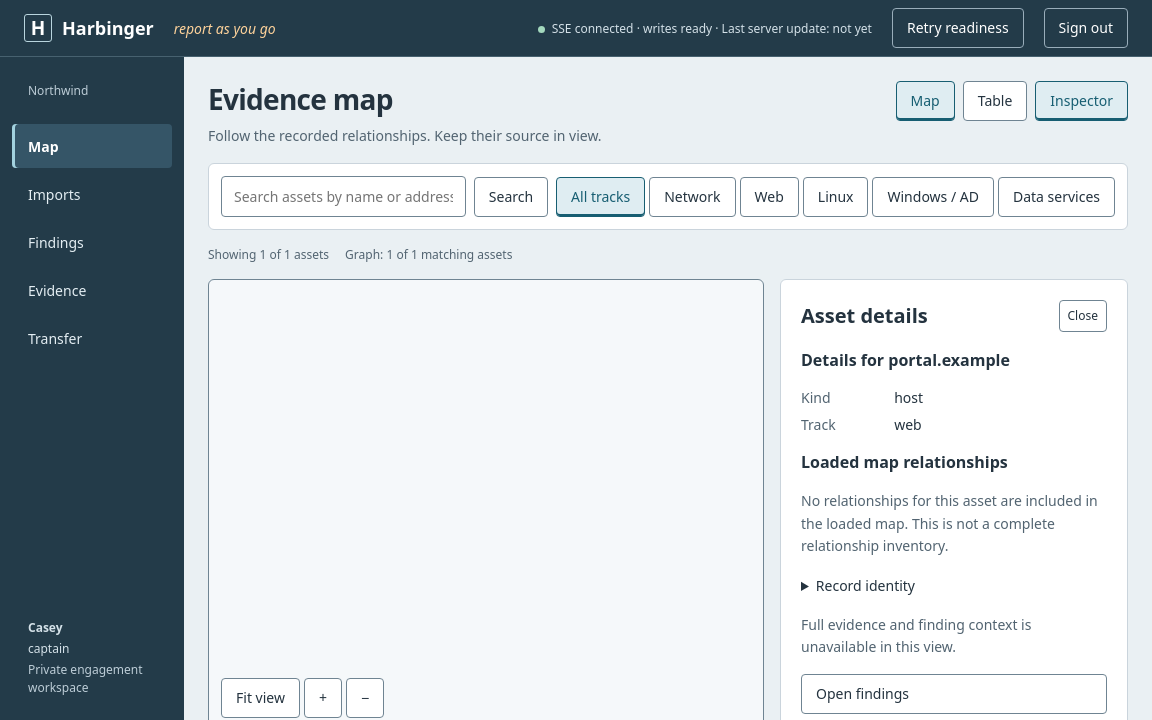
Test: Harbinger UI contract › preserves local and server versions on a stale finding revision
The width and height of the screenshot is (1152, 720).
Click the link "Findings" at (56, 242), box [28,233,84,252]
(page scrolled)
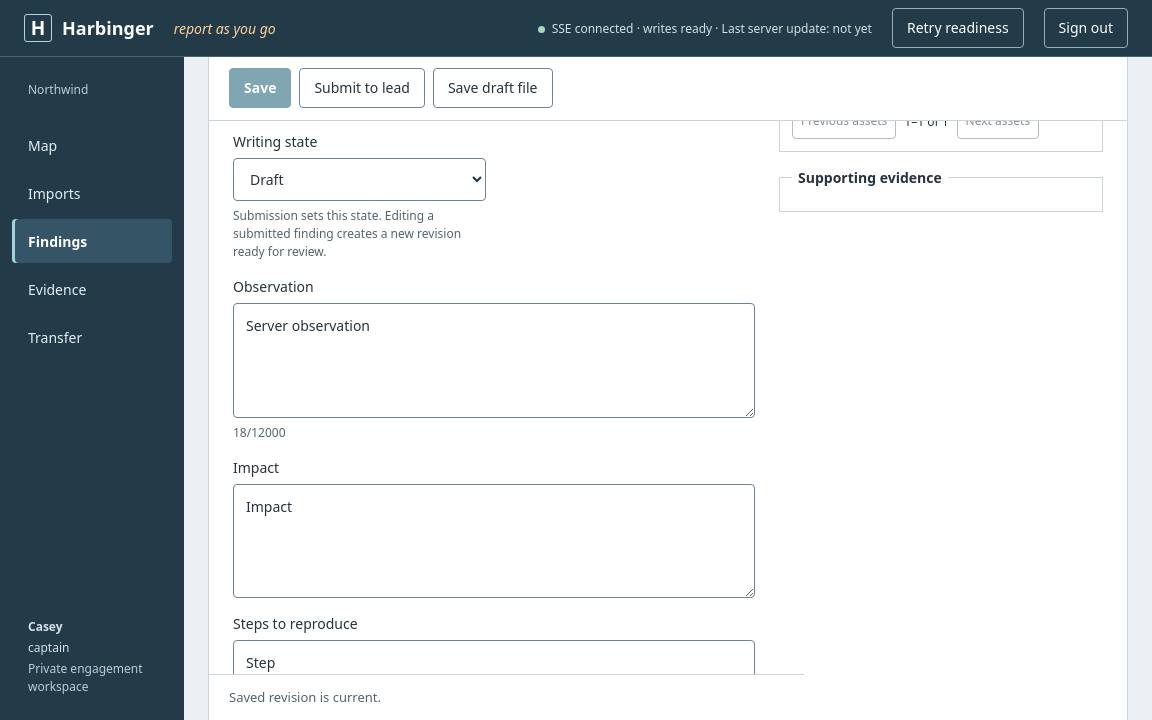
Replace the text in the text box labelled "Observation" with "Local version" at (494, 361), box [233,303,755,418]
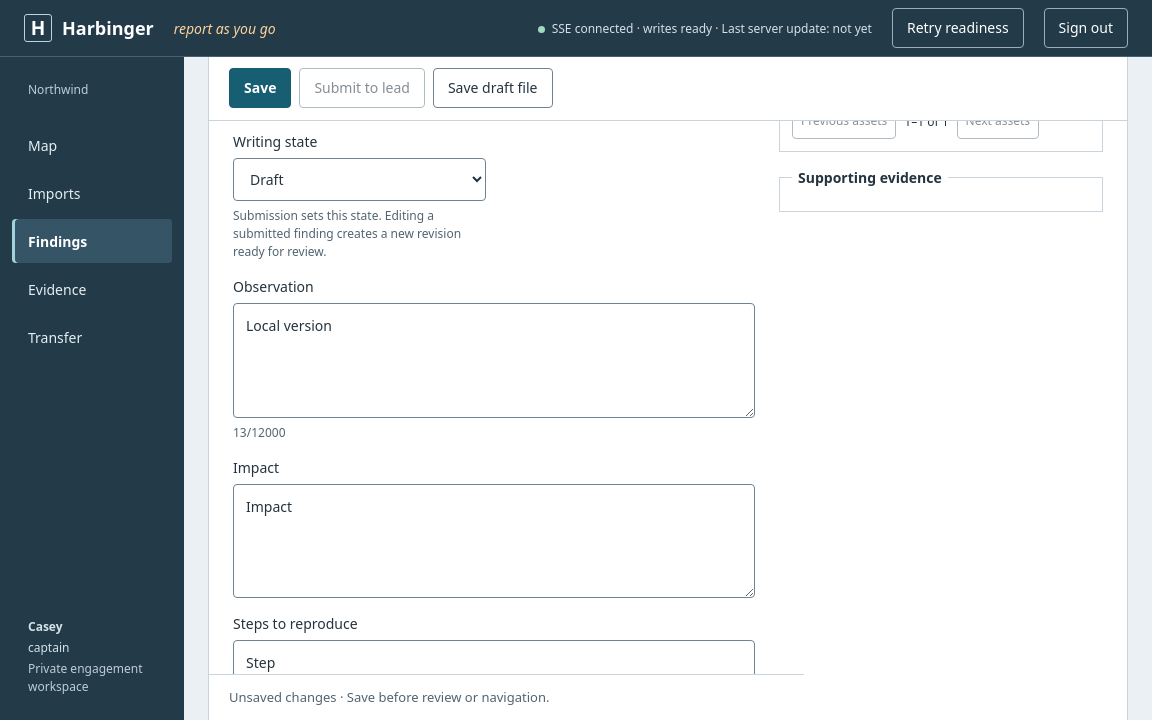
Click the button "Save" at (260, 88), box [229,68,291,108]
(page scrolled)
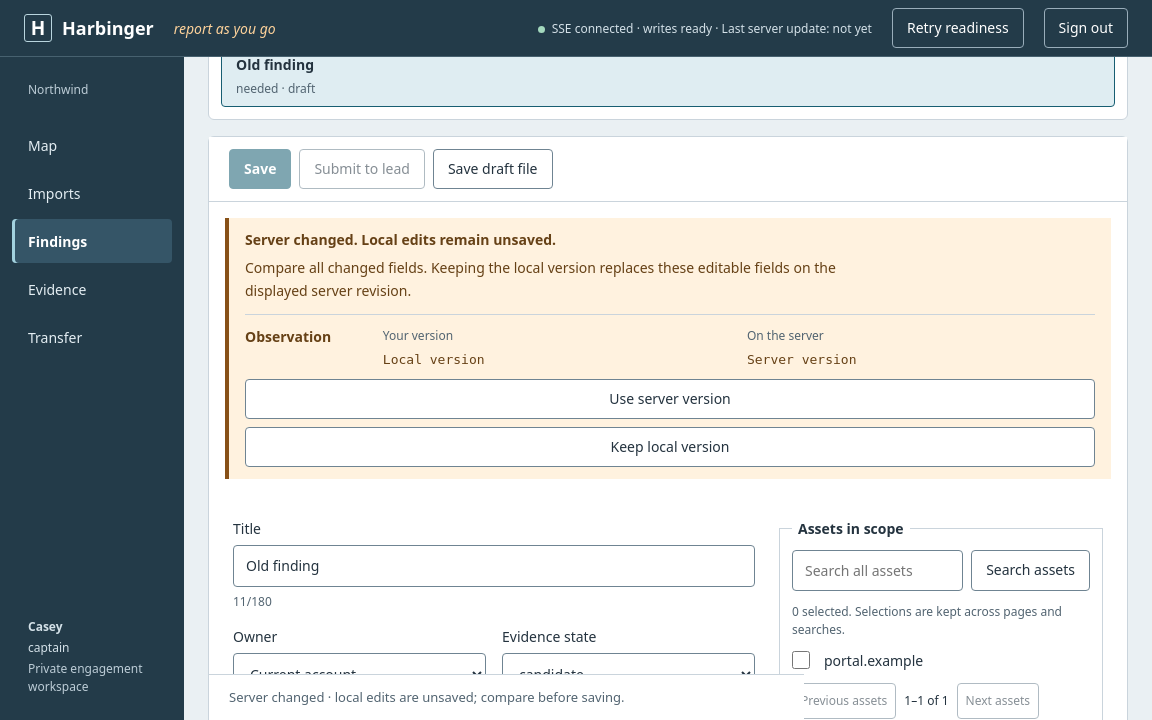
Now the text "Server changed. Local edits remain unsaved." is shown, box [245,230,556,249]
Now the text "Server version" is shown, box [747,352,856,367]
